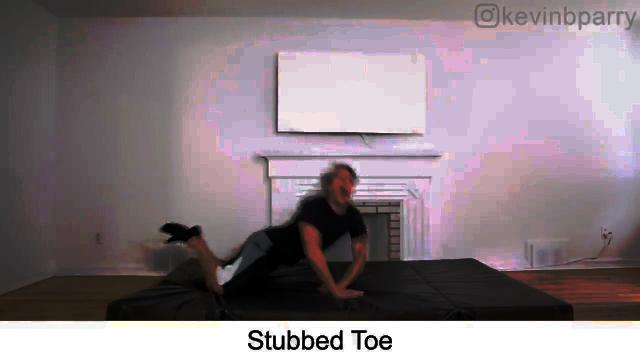jatuh: (138, 154, 374, 318)
